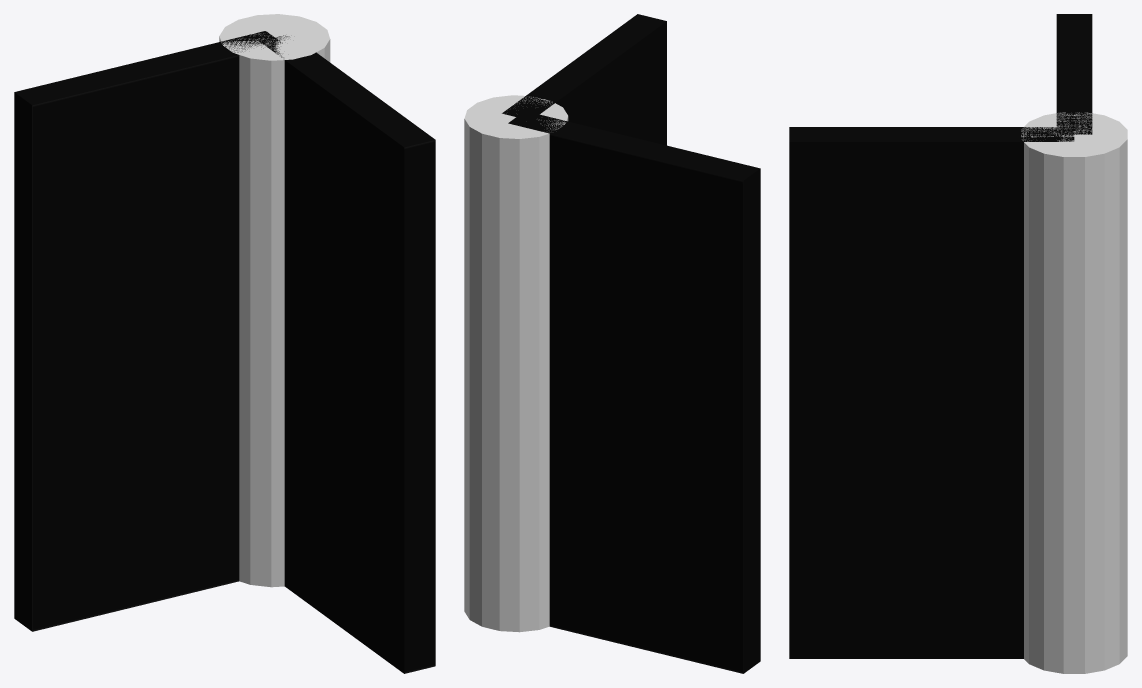
The model's file is dc_metrobus_wall_3.obj.
3 renders of one model, left to right at view 1: azimuth 30°, elevation 25°; view 2: azimuth 150°, elevation 25°; view 3: azimuth 270°, elevation 25°, orthographic. The views are drawn at different scales.
Visible parts, largest first — view 1: cube, cylinder; view 2: cube, cylinder; view 3: cube, cylinder.
Part boxes in pixels (bbox=[...]): cube: bbox=[14, 31, 435, 673]; cylinder: bbox=[219, 14, 330, 587]; cube: bbox=[502, 14, 760, 673]; cylinder: bbox=[464, 95, 568, 632]; cube: bbox=[789, 14, 1092, 658]; cylinder: bbox=[1021, 112, 1127, 673].
Size of the model in its own units: 0.5938 by 1 by 0.5938.
2 materials, 2 textured.
